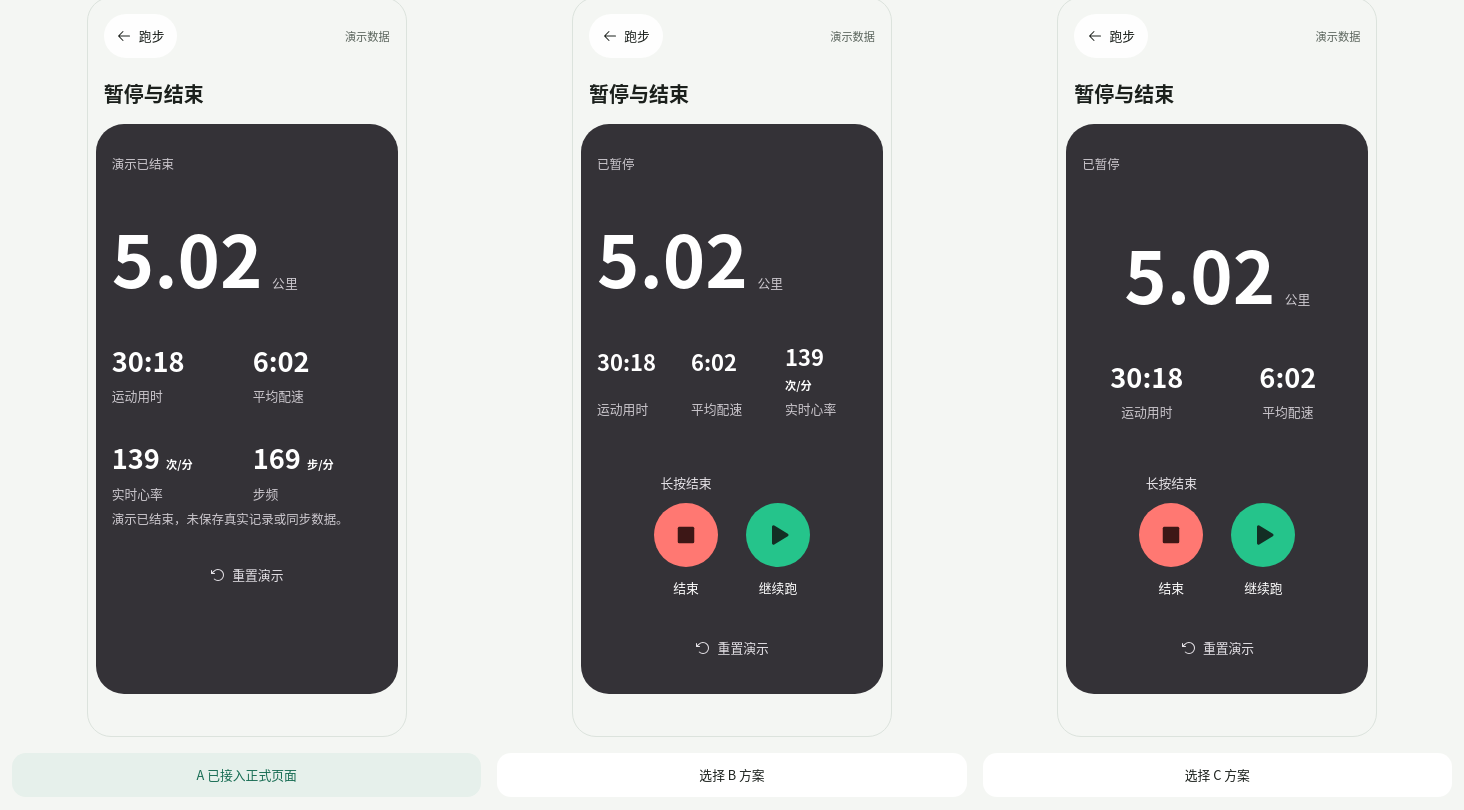
it: 三种结束确认均可取消并保留暂停，确认只影响演示
The image size is (1464, 810).
Earlier steps of the test are not shown.
Later steps or results of the test are not shown.
(page scrolled)
Expected: the message shows "未保存真实记录", [112,510,349,528]
Click the 1st button named "结束": (686, 534) [654,502,718,566]
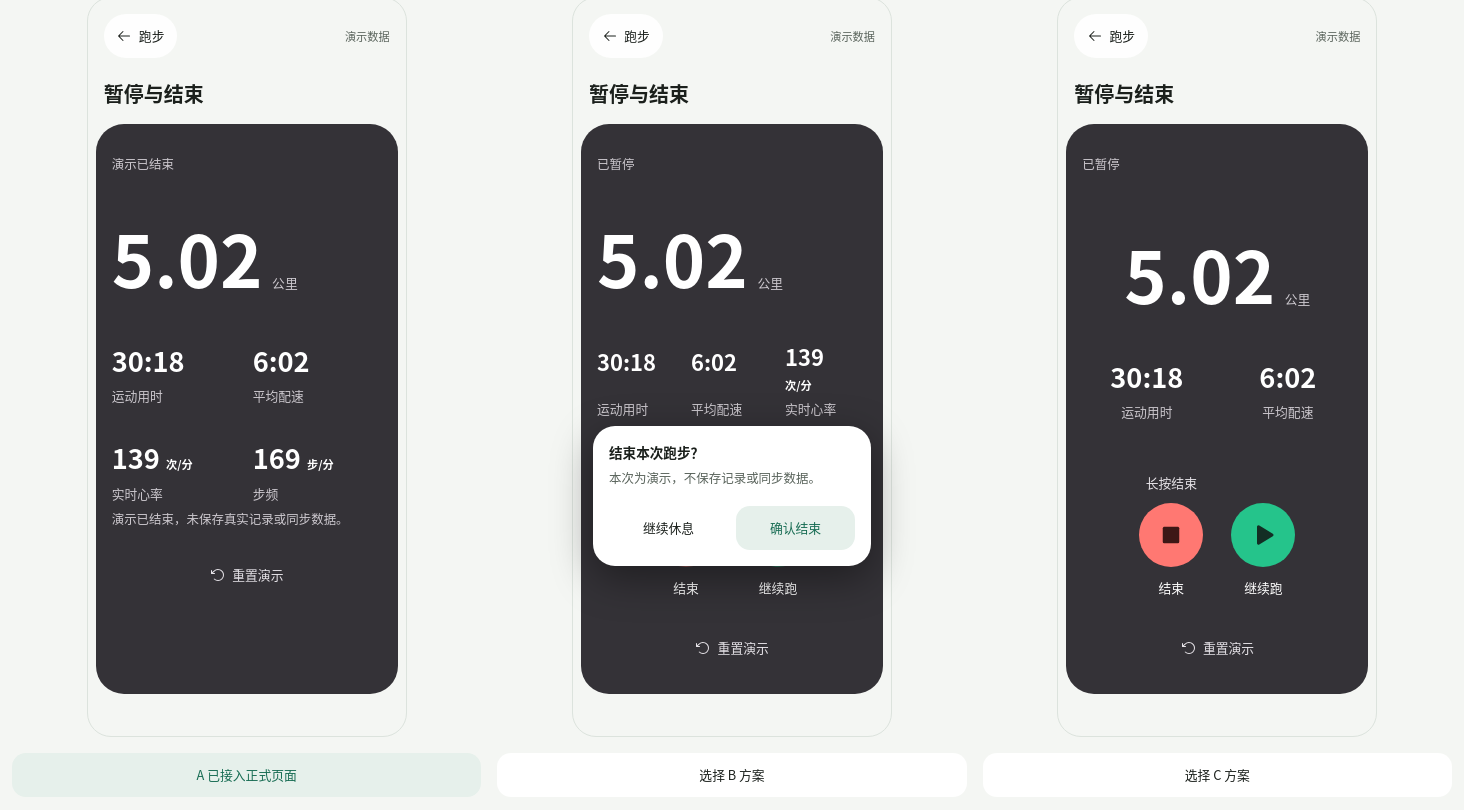
Click the button "继续休息": (668, 528) [609,506,728,550]
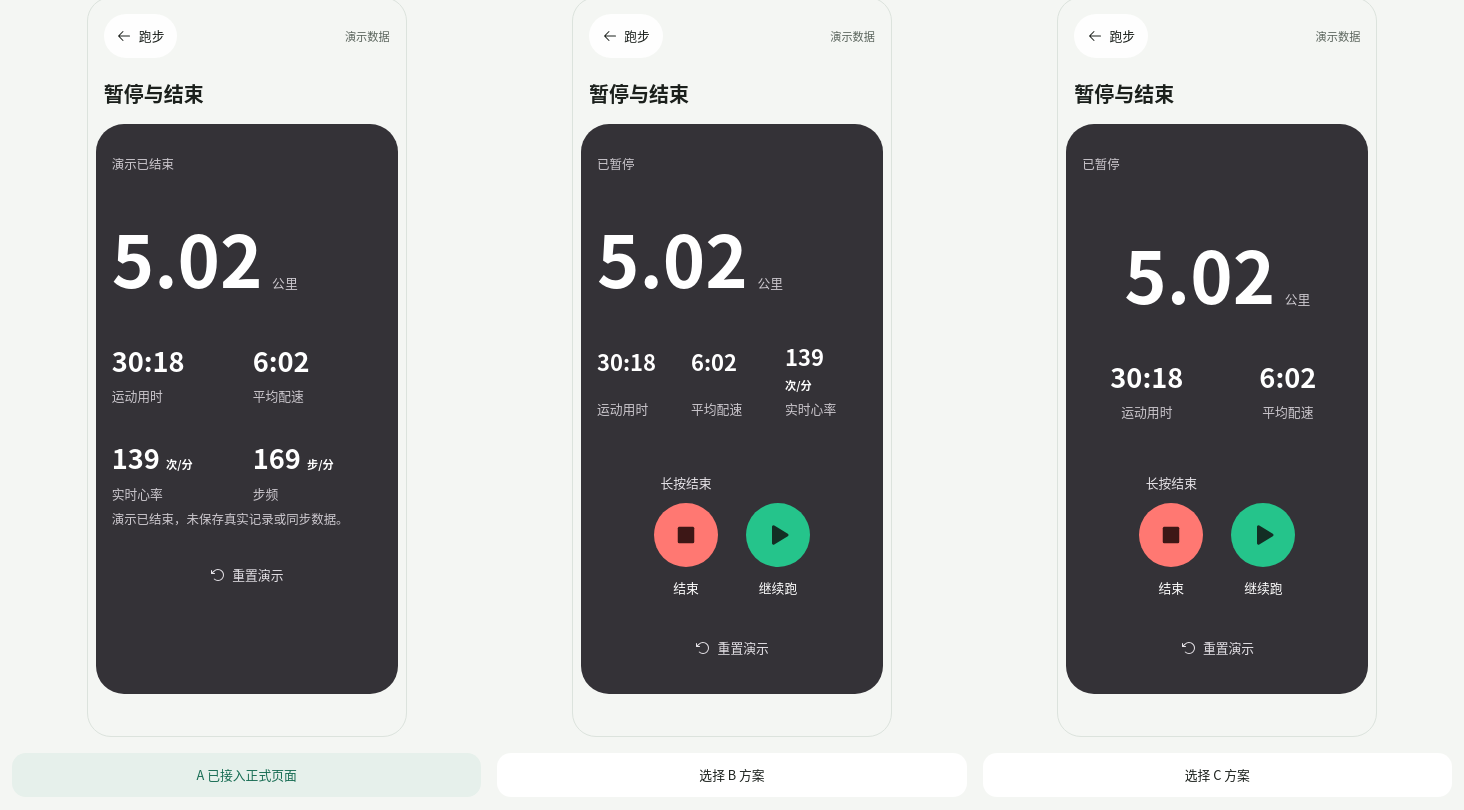
Expected: the text "已暂停" below "三项关键数据横向排列，控制区留出更多呼吸空间。" is shown, [597,155,634,173]
Click the 1st button named "继续跑": (778, 534) [746,502,810,566]
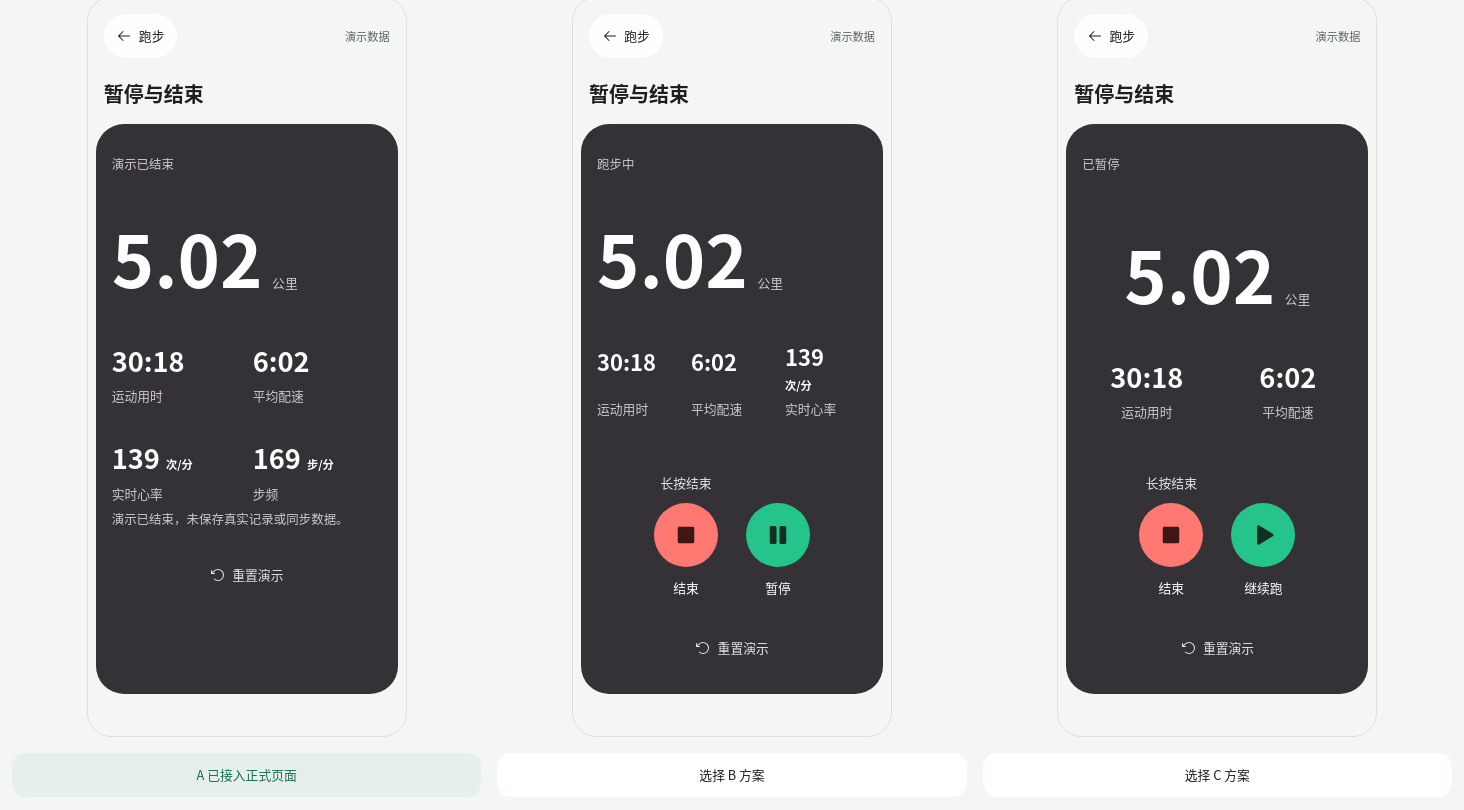
Click the button named "暂停": (778, 534) [746,502,810,566]
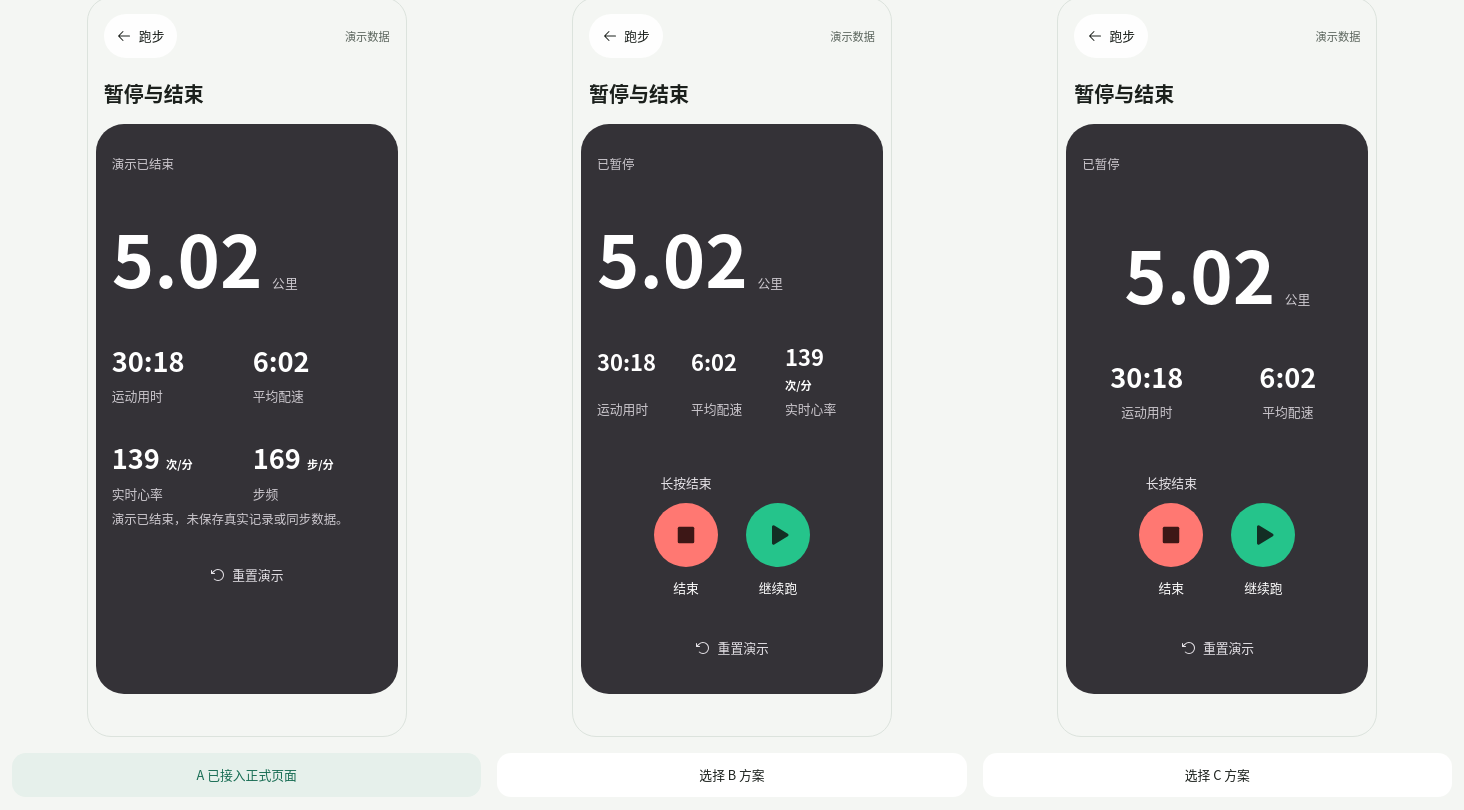
Click the 1st button named "结束": (686, 534) [654,502,718,566]
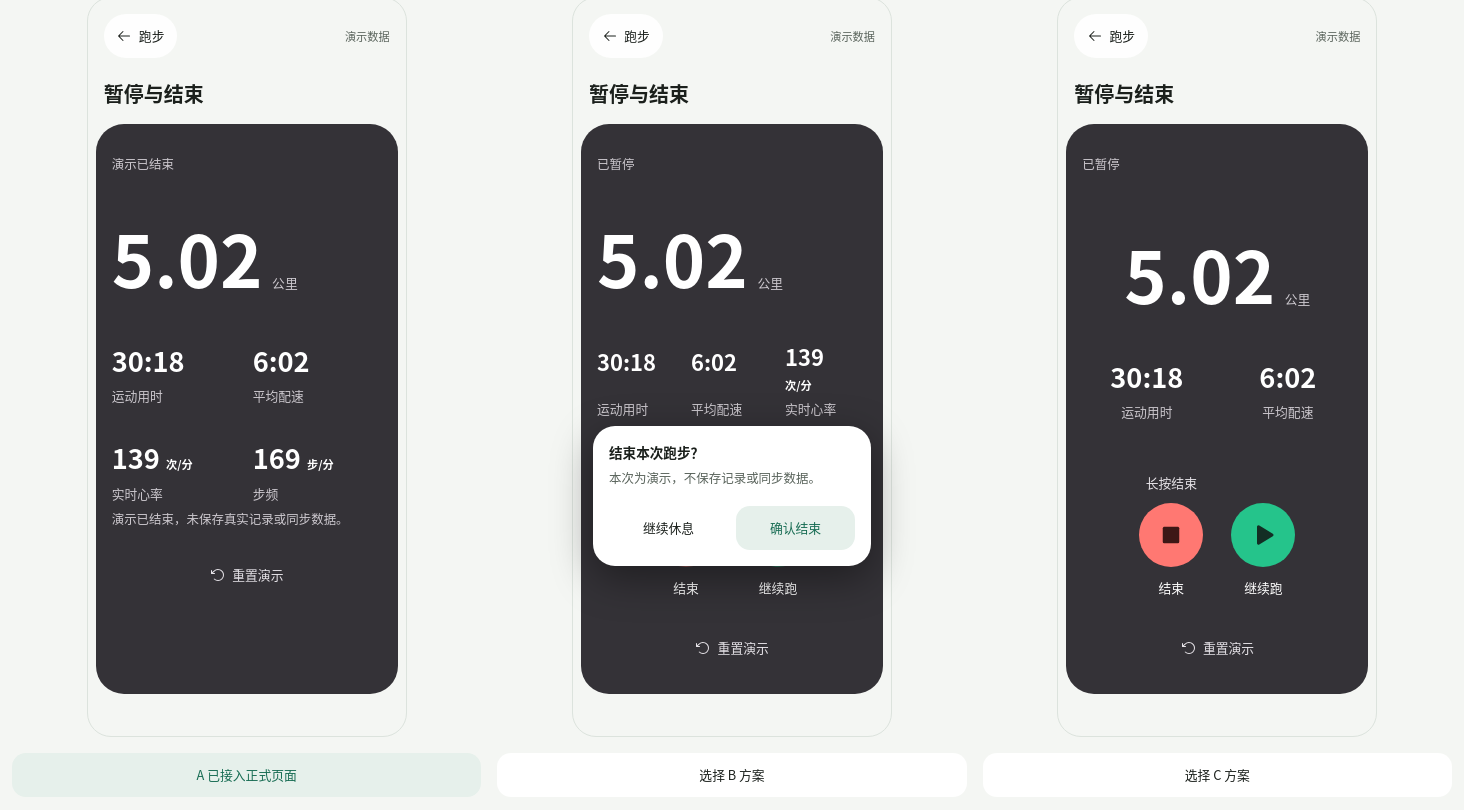
Click the button "确认结束": (796, 528) [736,506,855,550]
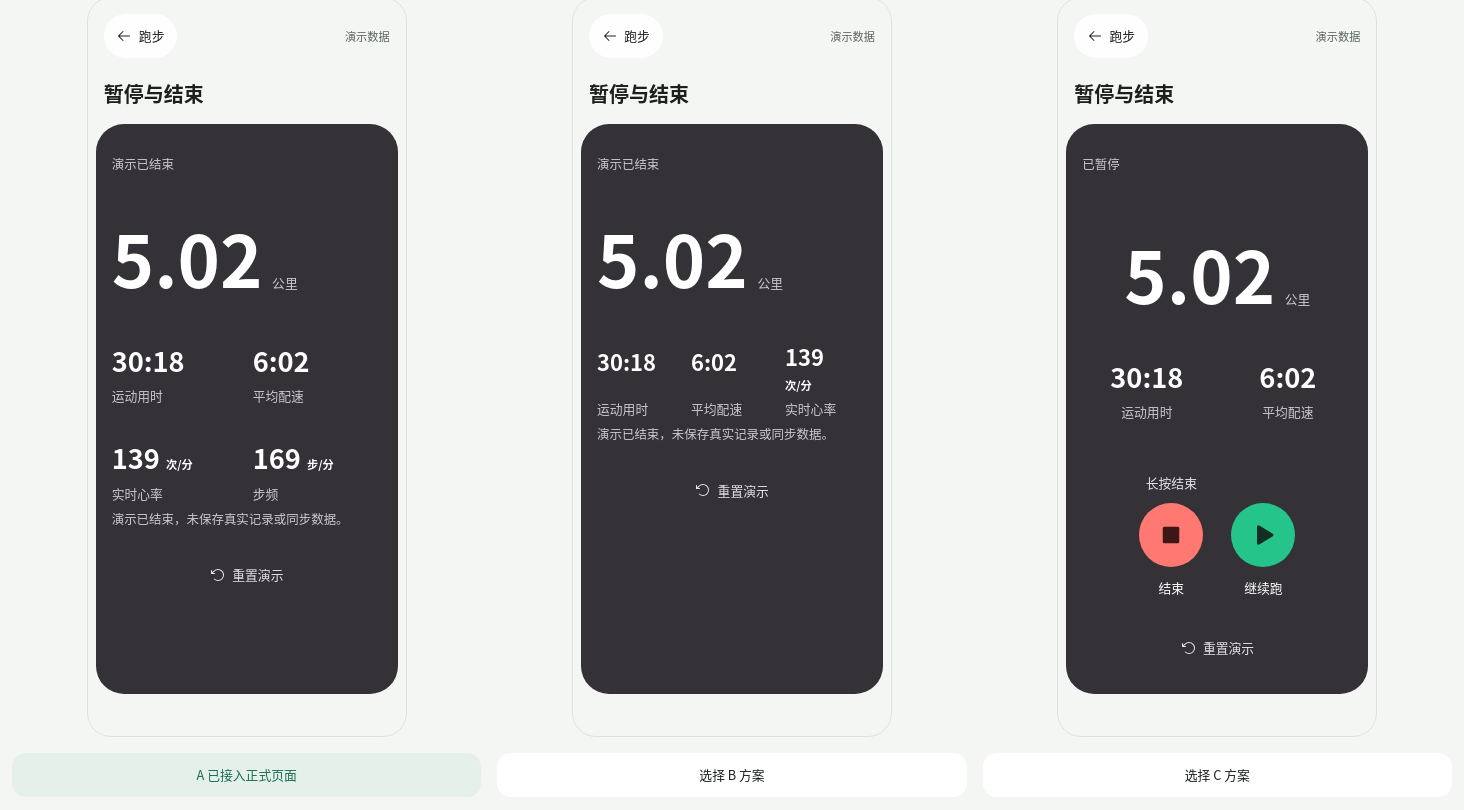
Now the 1st message "演示已结束，未保存真实记录或同步数据。" is shown, box [597,424,867,446]
